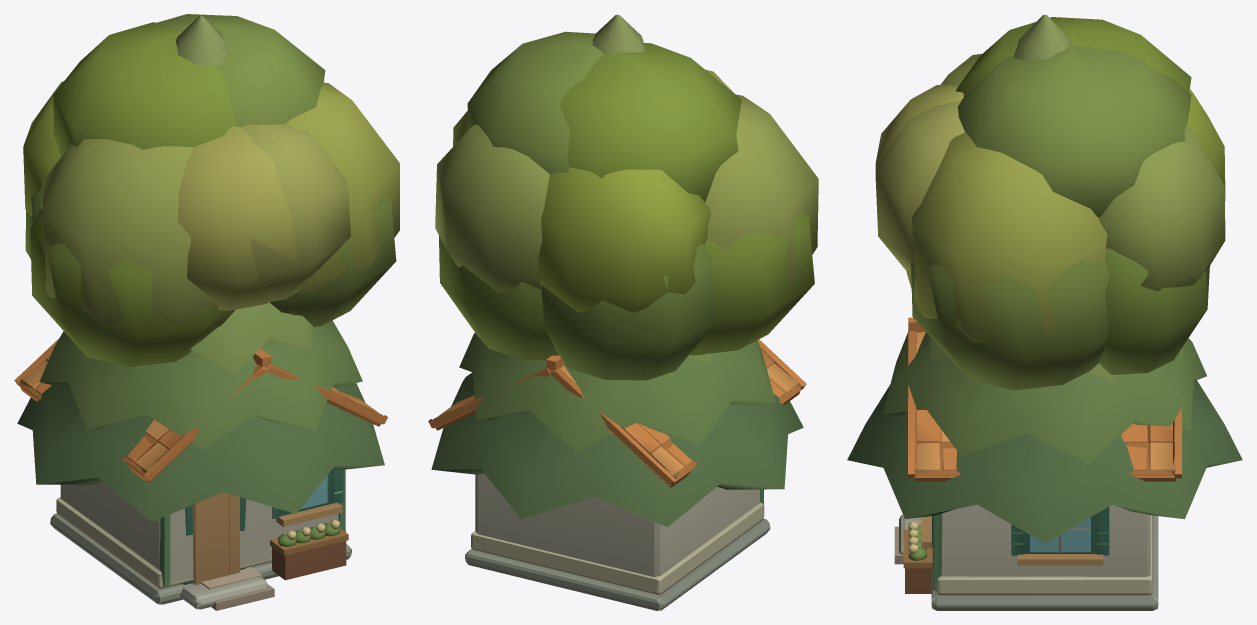
The model's file is parcel_botanicals.glb.
3 views of the same model, side by side, from view 1: azimuth 30°, elevation 25°; view 2: azimuth 150°, elevation 25°; view 3: azimuth 270°, elevation 25° (orthographic). The views are drawn at different scales.
Parts seen in each view (by area): view 1: Linden, Spruce, OrchardElm, CottageSill, Fir; view 2: Linden, OrchardElm, Spruce, CottageSill, Fir; view 3: OrchardElm, Spruce, Linden, CottageSill, Fir.
Part boxes in pixels (x1,y1,x2,y2): Linden: (23, 22, 399, 367); Spruce: (17, 302, 384, 521); OrchardElm: (25, 14, 396, 350); CottageSill: (14, 339, 387, 610); Fir: (176, 16, 277, 358); Linden: (439, 43, 814, 360); OrchardElm: (435, 31, 818, 380); Spruce: (431, 333, 803, 527); CottageSill: (428, 339, 806, 610); Fir: (592, 14, 645, 54); OrchardElm: (875, 45, 1225, 390); Spruce: (847, 332, 1242, 543); Linden: (875, 17, 1225, 374); CottageSill: (894, 317, 1181, 610); Fir: (1014, 14, 1072, 436).
Bounding box in the file's own units: 3.15 × 4.73 × 3.07.
